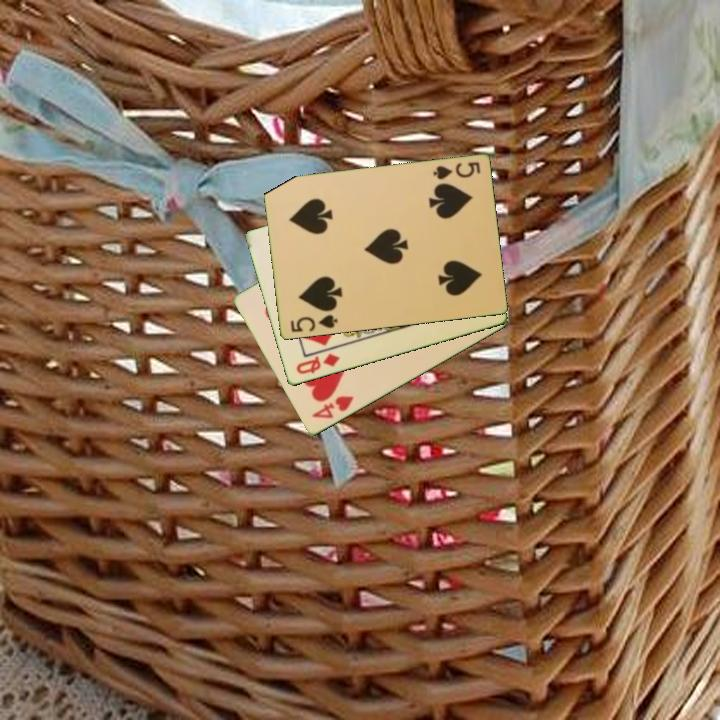4h: (308, 392, 357, 422)
5s: (429, 159, 483, 183), (286, 312, 340, 335)
Qd: (292, 350, 343, 378)
